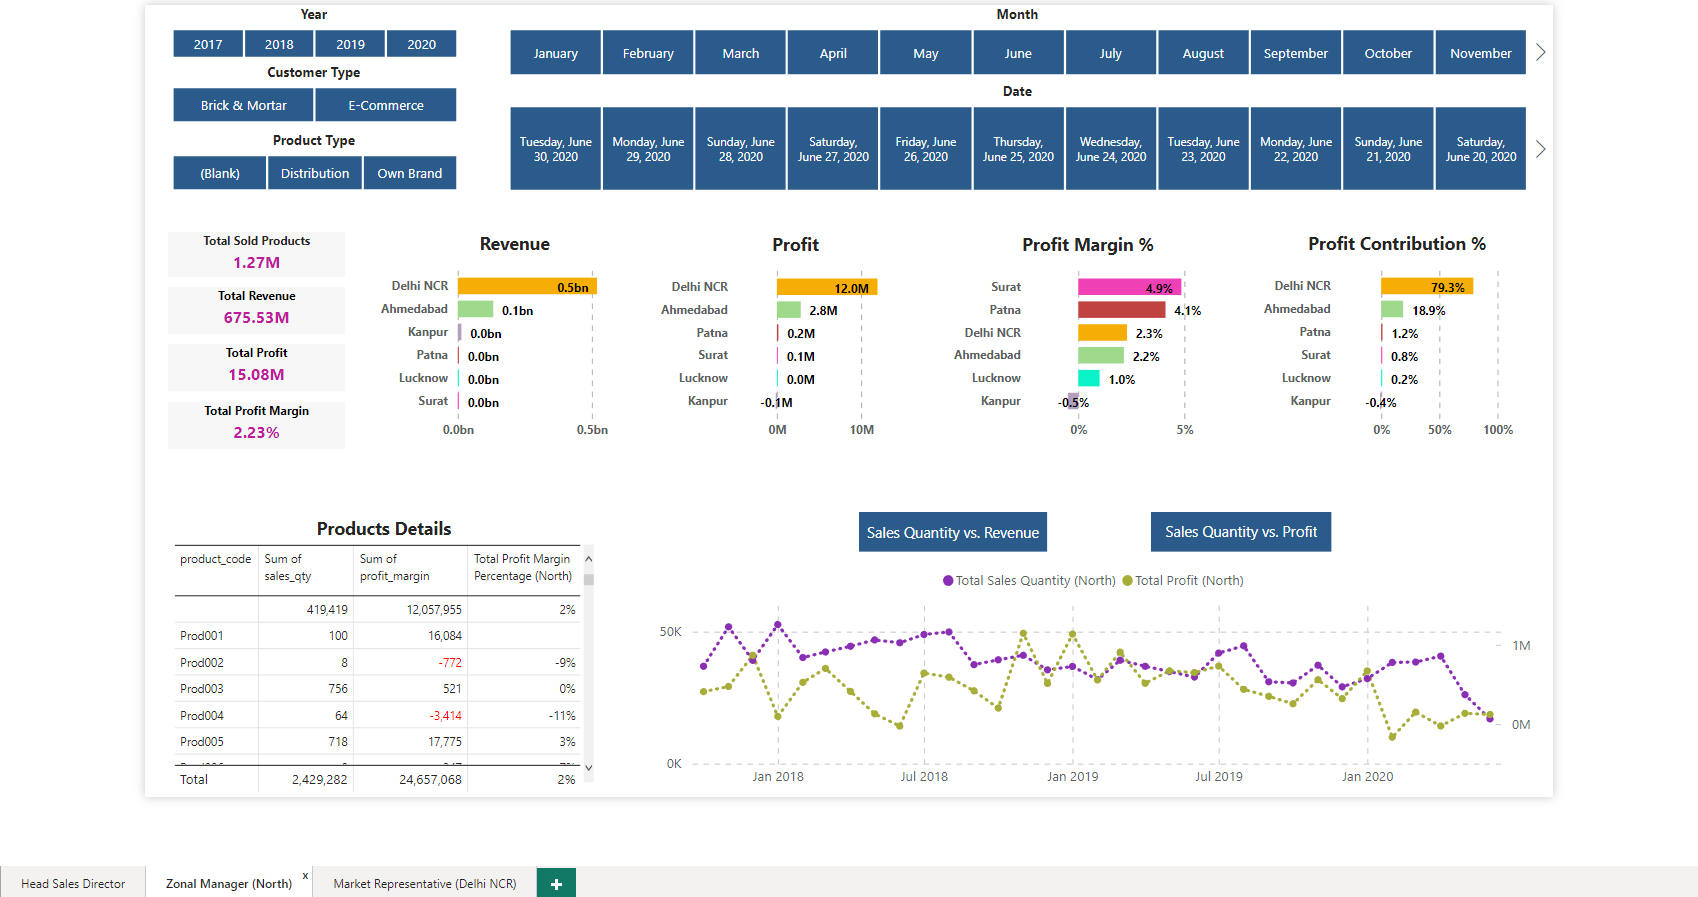

Layout of this report page (visuals, bound fields, positions):
{"tool":"powerbi","page":{"name":"Zonal Manager (North)","canvas":[1280,720],"ordinal":1},"visuals":[{"type":"slicer","title":"Month","fields":{"Values":["sales insights of mg date.month_name"]},"box":[306.7,0,973.3,70.2],"z":0},{"type":"slicer","title":"Date","fields":{"Values":["sales insights of mg date.date"]},"box":[306.7,70.2,973.3,105.2],"z":1000},{"type":"card","title":"Total Revenue","fields":{"Values":["Base Measures.Revenue (North)"]},"box":[21.1,256.7,161.1,43.3],"z":2000},{"type":"card","title":"Total Sold Products","fields":{"Values":["Base Measures.Total Sales Quantity (North)"]},"box":[21.1,206.8,161.1,41.1],"z":3000},{"type":"clusteredBarChart","title":"Revenue","fields":{"Category":["sales insights of mg markets.markets_name"],"Y":["Base Measures.Total Revenue (North)"]},"box":[207.8,205.6,255.6,198.9],"z":4000},{"type":"clusteredBarChart","title":"Profit","fields":{"Category":["sales insights of mg markets.markets_name"],"Y":["Base Measures.Total Profit (North)"]},"box":[463,206,257,198],"z":5000},{"type":"clusteredBarChart","title":"Profit Margin %","fields":{"Category":["sales insights of mg markets.markets_name"],"Y":["Base Measures.Total Profit Margin Percentage (North)"]},"box":[729,206,256,198],"z":6000},{"type":"clusteredBarChart","title":"Profit Contribution %","fields":{"Category":["sales insights of mg markets.markets_name"],"Y":["Base Measures.Profit Margin Contribution (North)"]},"box":[1011.1,205.6,254.4,198.9],"z":7000},{"type":"card","title":"Total Profit","fields":{"Values":["Base Measures.Total Profit (North)"]},"box":[21.1,307.8,161.1,43.3],"z":8000},{"type":"slicer","title":"Year","fields":{"Values":["sales insights of mg date.year"]},"box":[0,0,306.9,53.5],"z":9000},{"type":"tableEx","title":"Products Details","fields":{"Values":["sales insights of mg products.product_code","Sum(sales insights of mg transactions.sales_qty)","Sum(sales insights of mg transactions.profit_margin)","Base Measures.Total Profit Margin Percentage (North)"]},"box":[21.1,464.4,392.2,255.6],"z":10000},{"type":"lineChart","title":"Sales Quantity  vs.  Profit","fields":{"Category":["sales insights of mg date.cy_date.Variation.Date Hierarchy.Year","sales insights of mg date.cy_date.Variation.Date Hierarchy.Quarter","sales insights of mg date.cy_date.Variation.Date Hierarchy.Month","sales insights of mg date.cy_date.Variation.Date Hierarchy.Day"],"Y":["Base Measures.Total Sales Quantity (North)"],"Y2":["Base Measures.Total Profit (North)"]},"box":[462.7,503.6,802.7,216.4],"z":12000},{"type":"actionButton","box":[649.1,461,170.9,36.4],"z":13000},{"type":"actionButton","box":[914.7,461.4,164.4,35.6],"z":14000},{"type":"slicer","title":"Customer Type","fields":{"Values":["sales insights of mg customers.customer_type"]},"box":[0,52.6,306.9,59.6],"z":15000},{"type":"slicer","title":"Product Type","fields":{"Values":["sales insights of mg products.product_type"]},"box":[0,114.9,306.9,59.6],"z":16000},{"type":"card","title":"Total Profit Margin","fields":{"Values":["Base Measures.Total Profit Margin Percentage (North)"]},"box":[21.1,361.1,161.1,43.3],"z":17000}]}

Visuals, with their boxes on the page's 1280x720 design canvas (x1, y1, x2, y2). These are canvas units, not pixel positions in the 1698x897 screenshot, which may show the page scaled, cropped or inside an application window:
"Month" slicer: select_region(307, 0, 1280, 70)
"Date" slicer: select_region(307, 70, 1280, 175)
"Total Revenue" card: select_region(21, 257, 182, 300)
"Total Sold Products" card: select_region(21, 207, 182, 248)
"Revenue" clusteredBarChart: select_region(208, 206, 463, 404)
"Profit" clusteredBarChart: select_region(463, 206, 720, 404)
"Profit Margin %" clusteredBarChart: select_region(729, 206, 985, 404)
"Profit Contribution %" clusteredBarChart: select_region(1011, 206, 1266, 404)
"Total Profit" card: select_region(21, 308, 182, 351)
"Year" slicer: select_region(0, 0, 307, 54)
"Products Details" tableEx: select_region(21, 464, 413, 720)
"Sales Quantity  vs.  Profit" lineChart: select_region(463, 504, 1265, 720)
actionButton: select_region(649, 461, 820, 497)
actionButton: select_region(915, 461, 1079, 497)
"Customer Type" slicer: select_region(0, 53, 307, 112)
"Product Type" slicer: select_region(0, 115, 307, 174)
"Total Profit Margin" card: select_region(21, 361, 182, 404)
